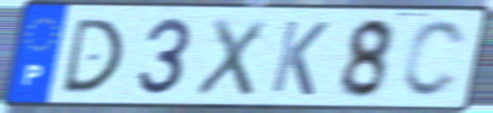3: (135, 14, 194, 99)
8: (337, 16, 399, 101)
C: (398, 18, 469, 102)
D: (58, 16, 126, 96)
K: (267, 17, 333, 98)
X: (191, 15, 270, 99)
